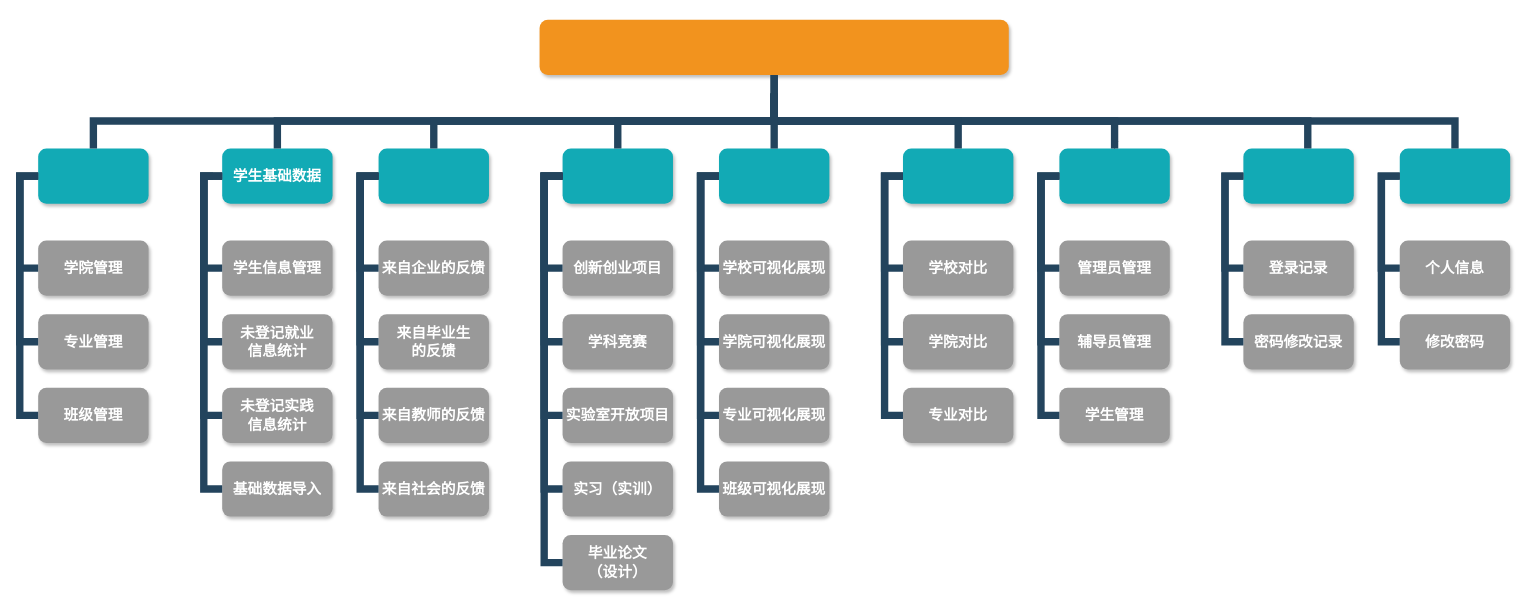
The diagram is 1531 pixels wide and 612 high, and some of its shapes have lost their labels. Here are the shapes that lost their labels. From the top down, the centre of each, then its label:
At (x=774, y=48): "绥化学院学生实践能力质量跟踪反馈系统".
At (x=94, y=177): "学院基础 信息管理".
At (x=434, y=177): "评价与反馈管理".
At (x=618, y=177): "实践教学管理".
At (x=774, y=177): "就业数据 可视化展现".
At (x=958, y=177): "历年对比分析".
At (x=1115, y=177): "用户管理".
At (x=1299, y=177): "日志管理".
At (x=1455, y=177): "个人中心".
